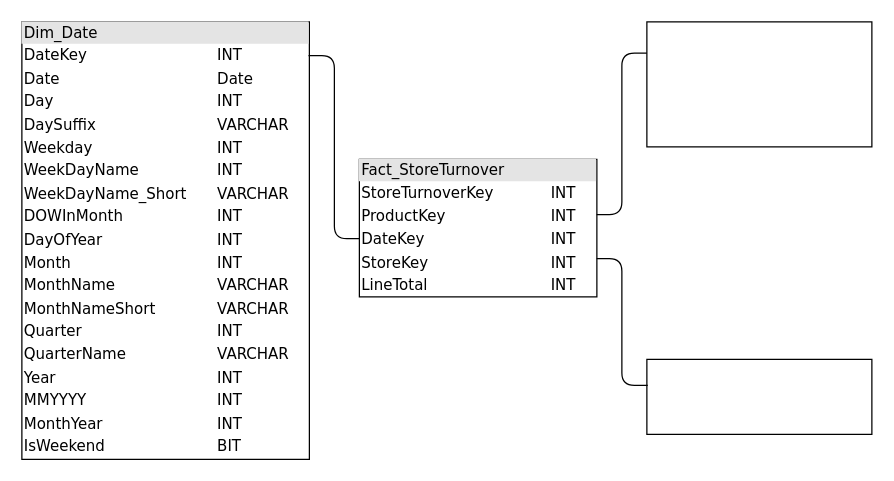
Some shapes in this 894 by 481 pixel diagram are drawn without their labels. Each missing label, with the centre of its shape:
Dim_Product ProductKey INT ProductName CHAR Category CHAR SubCategory CHAR: (759,84)
Dim_Store StoreKey INT StoreName CHAR: (759,396)
